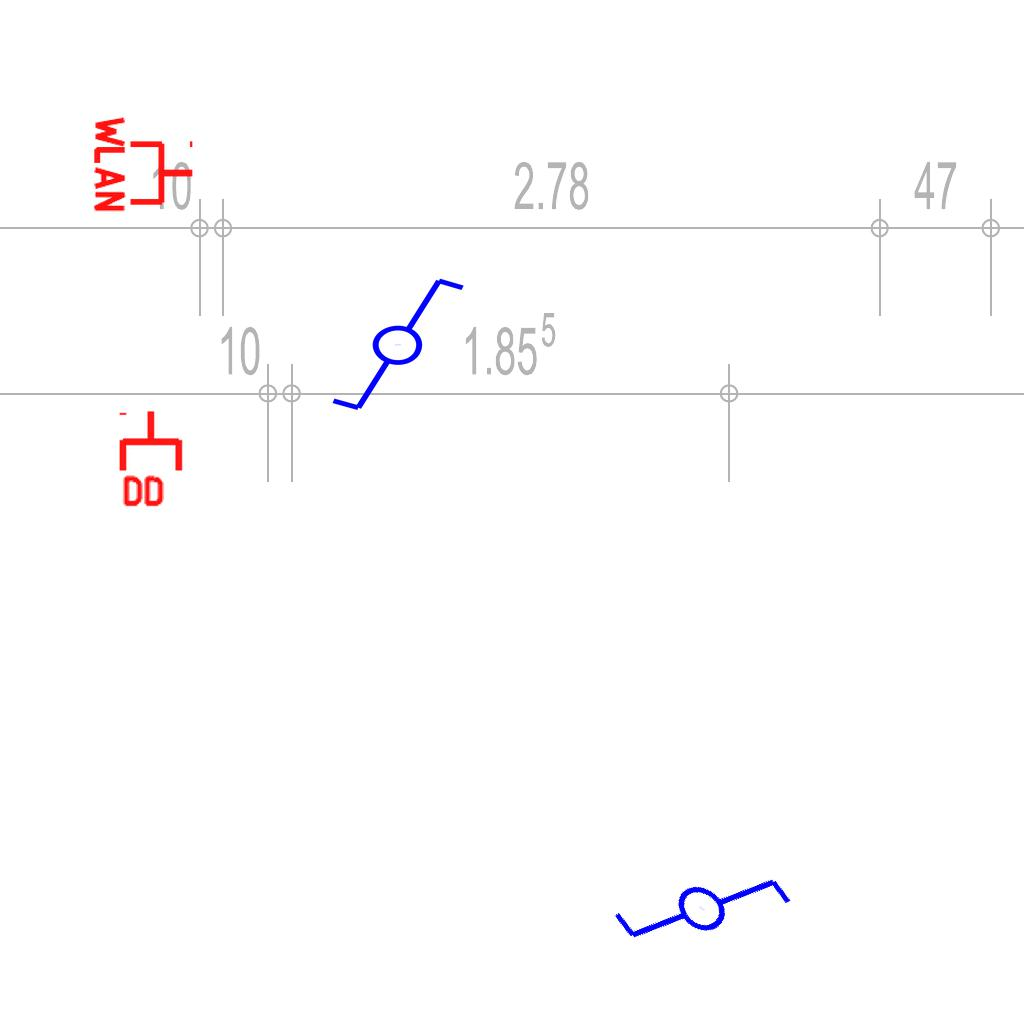Datenanschluss_zweifach: (118, 408, 187, 511)
WLAN: (92, 112, 197, 216)
Wechselschalter: (590, 797, 803, 1007), (311, 271, 468, 415)
